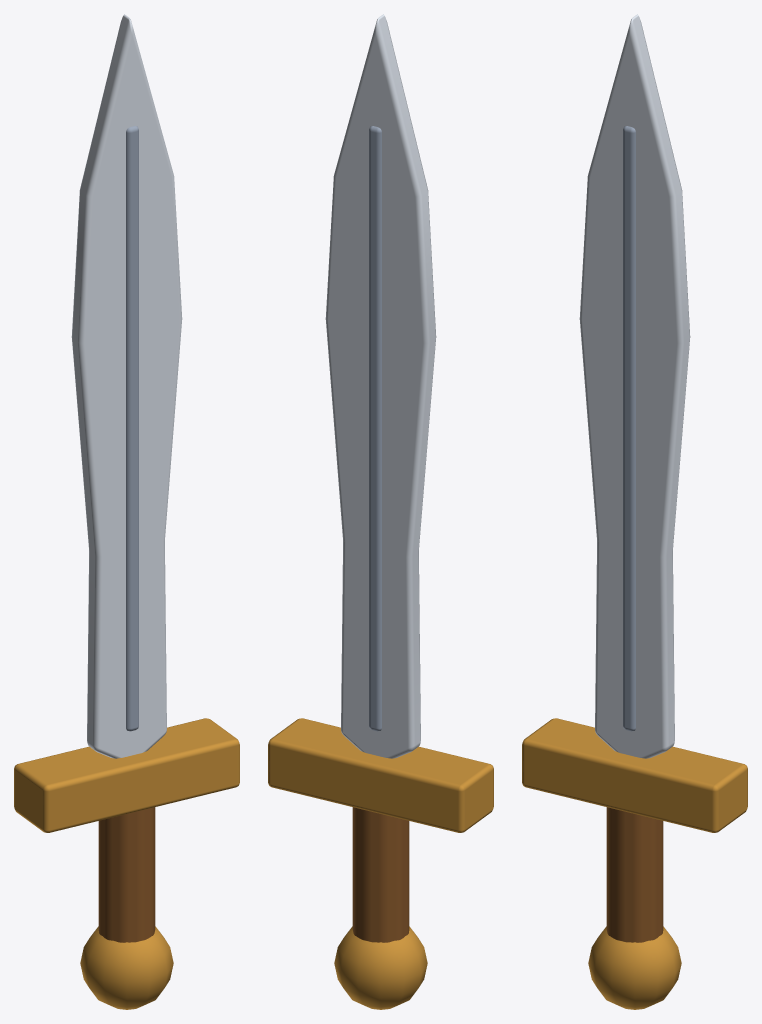
The model's file is espada_xiphos.glb.
The picture shows the model from 3 angles, left to right: view 1: azimuth 30°, elevation 25°; view 2: azimuth 150°, elevation 25°; view 3: azimuth 330°, elevation 25°; orthographic projection.
Parts seen in each view (by area): view 1: Espada.001; view 2: Espada.001; view 3: Espada.001.
Boxes of the visible parts, x1,y1,x2,y2 form: Espada.001: (14,14,239,1009); Espada.001: (268,14,493,1009); Espada.001: (522,14,747,1009).
Size of the model in its own units: 0.17 by 0.8177 by 0.07.
